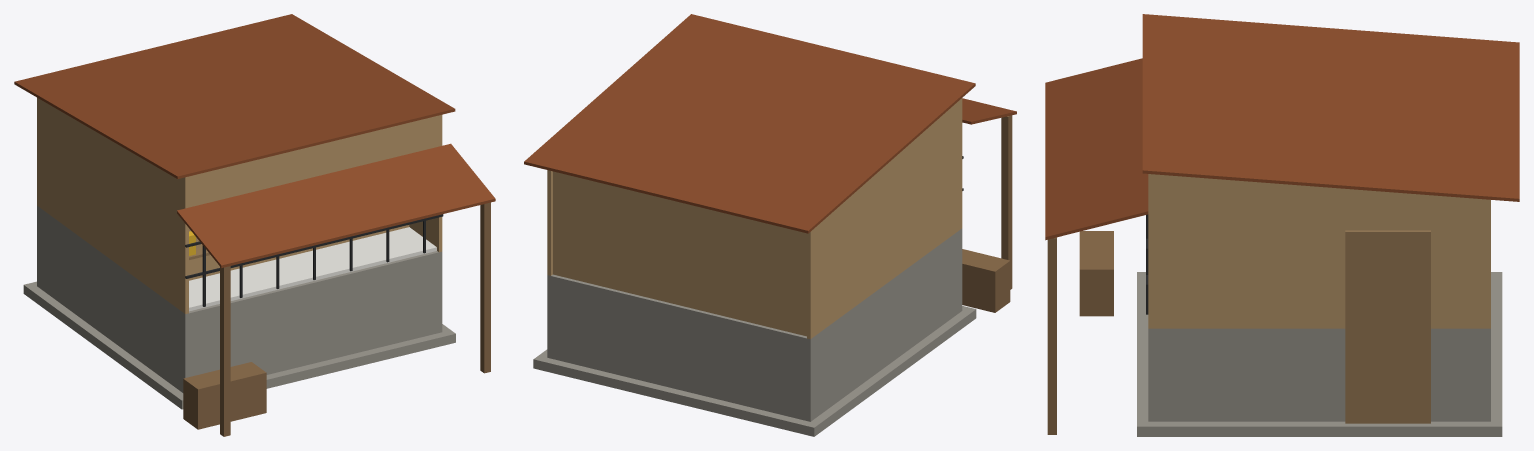
Rendered from BAY_I_SariSari_A.glb.
The picture shows the model from 3 angles, left to right: view 1: azimuth 30°, elevation 25°; view 2: azimuth 150°, elevation 25°; view 3: azimuth 270°, elevation 25°; orthographic projection. The views are drawn at different scales.
Visible parts, largest first — view 1: BAY_I_SariSari_A; view 2: BAY_I_SariSari_A; view 3: BAY_I_SariSari_A.
Boxes of the visible parts, box(x1,y1,x2,y2) form: BAY_I_SariSari_A: box(14, 14, 495, 436); BAY_I_SariSari_A: box(524, 14, 1016, 436); BAY_I_SariSari_A: box(1045, 14, 1519, 436).
Size of the model in its own units: 3.32 by 2.58 by 4.15.
Materials: 1 (1 with a texture image).
